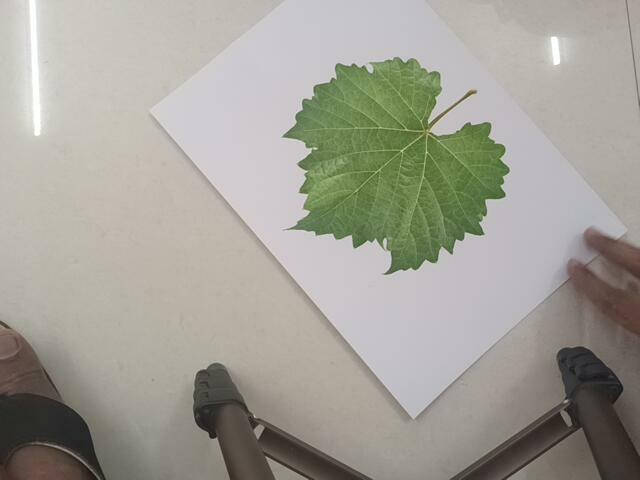Grape_Healthy: (279, 47, 522, 278)
